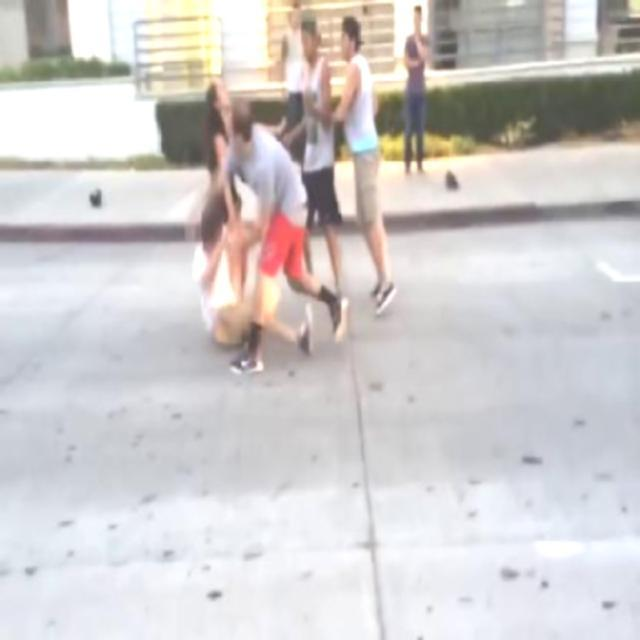fight: (185, 106, 321, 368)
non-fight: (397, 0, 432, 182)
